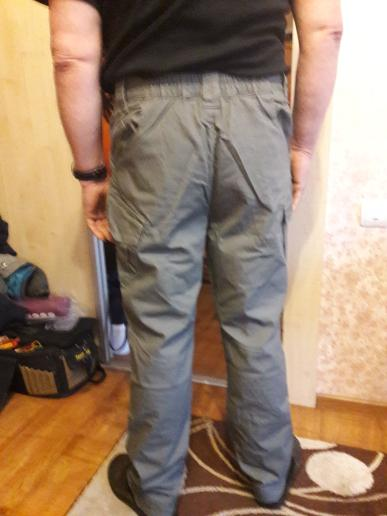pants: (100, 79, 294, 516)
